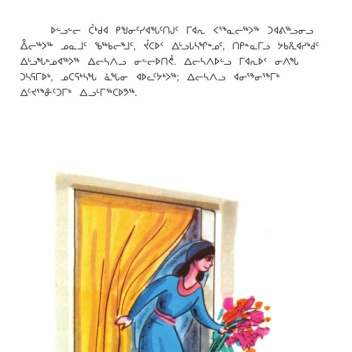inuktitut: (18, 36, 324, 52), (16, 67, 284, 84), (17, 51, 301, 67), (44, 19, 318, 35), (15, 84, 141, 99)
